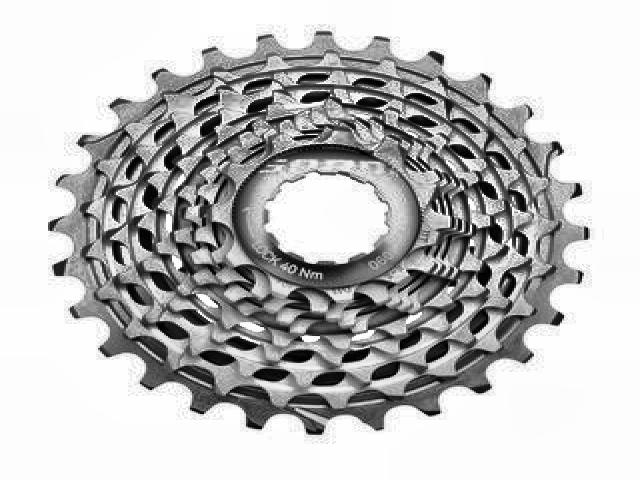cassette: (47, 25, 593, 435)
